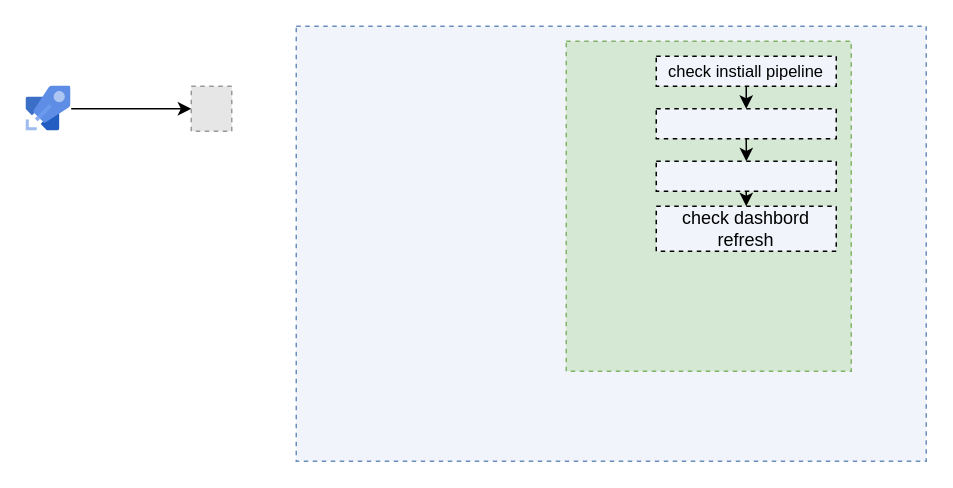
Some shapes in this 953 by 488 pixel diagram are drawn without their labels. Grey dashed boxes stand in for pictures. The shapes that lost their labels are listed below. From the top down, each one's centre as x and y in pixels, then its label:
At [745,123]: "check composer".
At [745,175]: "check dags".
